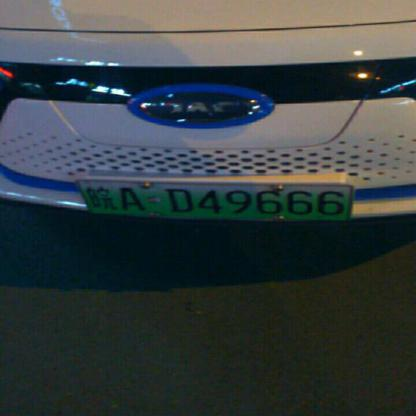lp: (75, 179, 353, 219)
